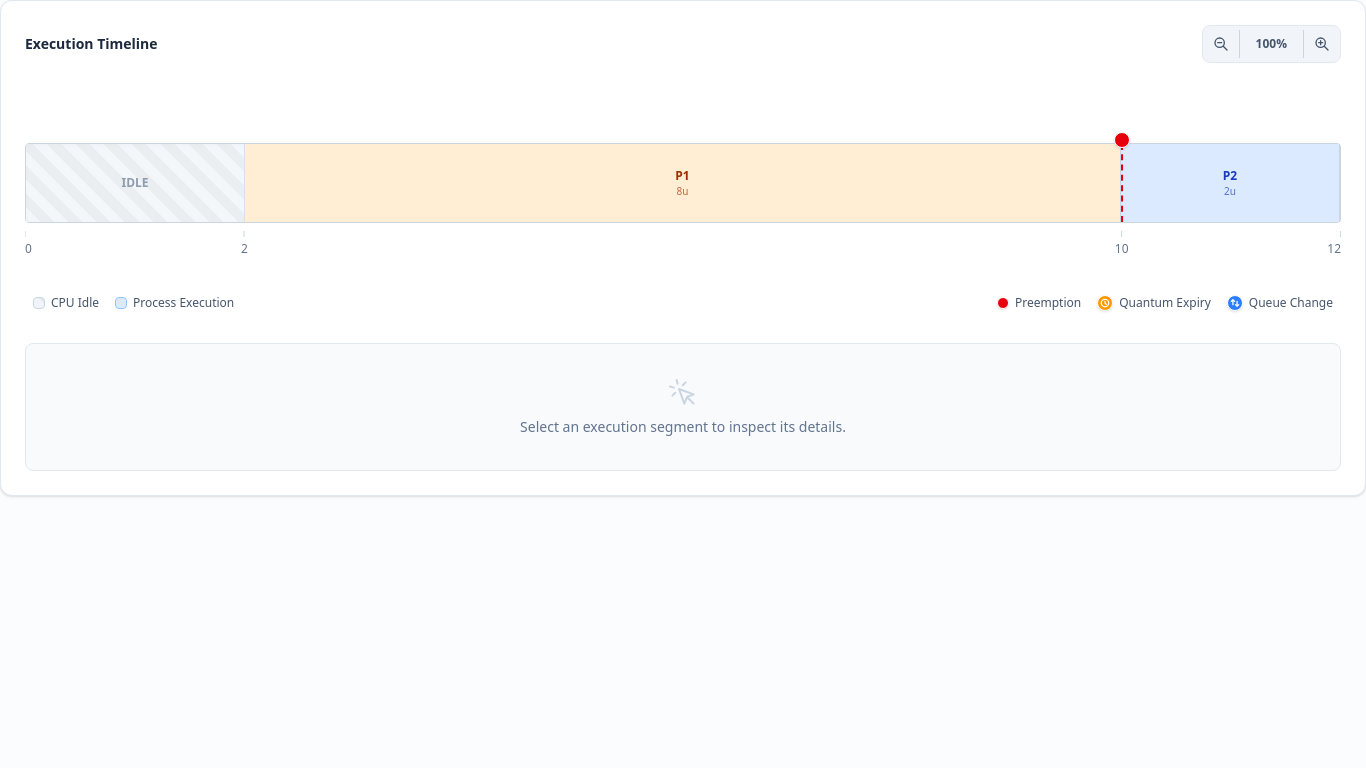
Scenario: GanttChart Component › handles segment selection and displays details
Check: the text "Select an execution segment to inspect its details." is shown, box [25, 343, 1341, 471]
// Click P1
Step 1. Click the button named "Process P1" → (683, 183), box [245, 144, 1121, 222]
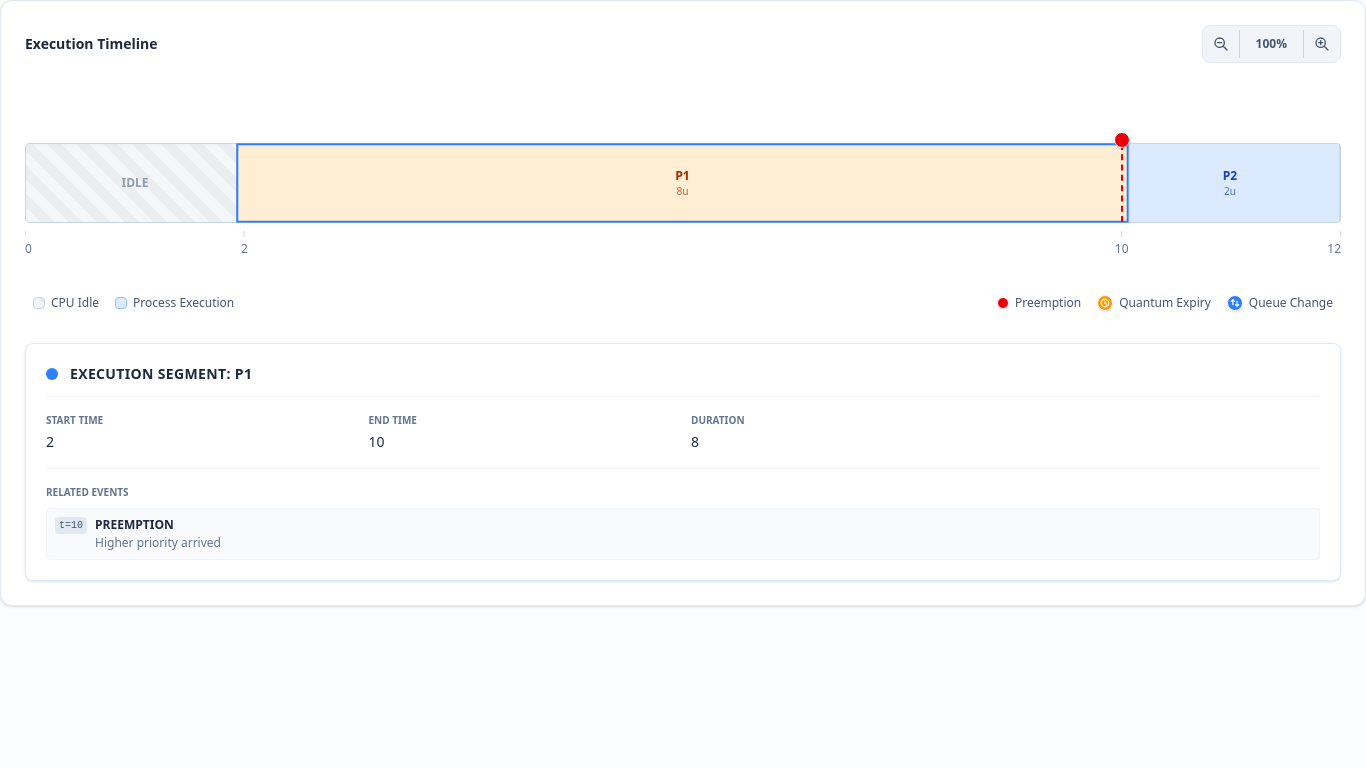
Check: the heading "Execution Segment: P1" is shown, box [70, 364, 252, 384]
Check: the text "Start Time" is shown, box [46, 413, 103, 427]
Check: the text "8" is shown, box [691, 432, 699, 451]
